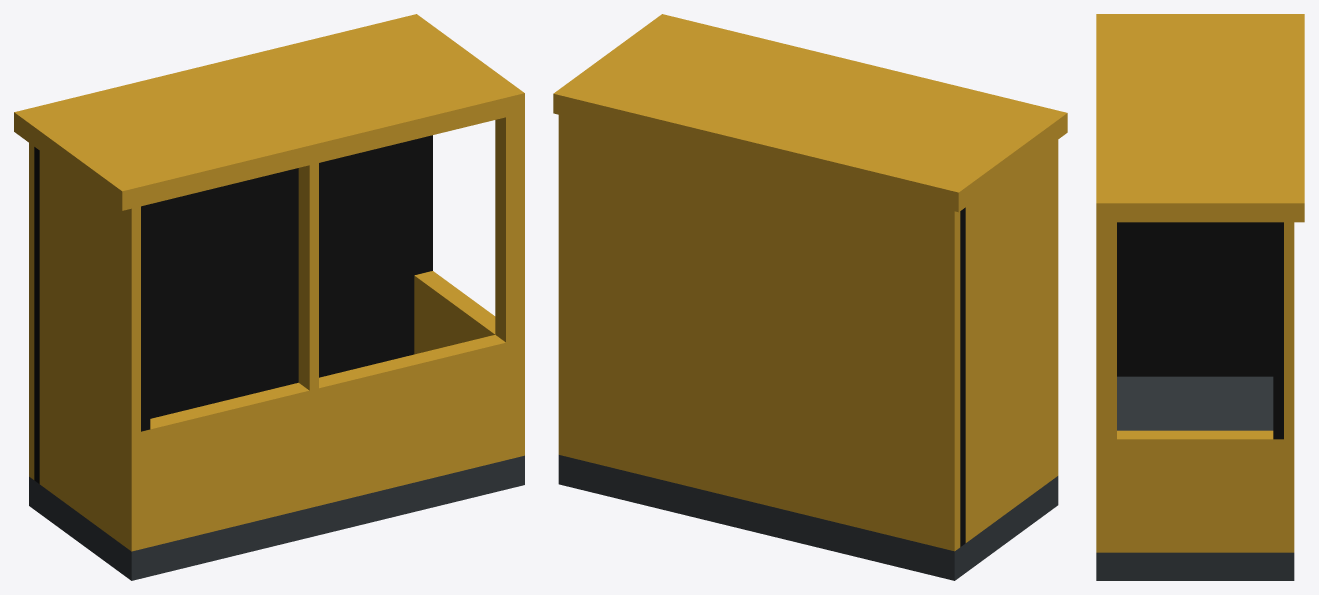
File: mobile_crane_operator_cab.glb
3 renders of one model, left to right at view 1: azimuth 30°, elevation 25°; view 2: azimuth 150°, elevation 25°; view 3: azimuth 270°, elevation 25°, orthographic. The views are drawn at different scales.
Visible parts, largest first — view 1: body:compound; view 2: body:compound; view 3: body:compound.
Part boxes in pixels (x1,y1,x2,y2): body:compound: (14, 14, 524, 580); body:compound: (553, 14, 1067, 580); body:compound: (1096, 14, 1304, 580).
Size of the model in its own units: 1.34 by 1.25 by 0.625.
